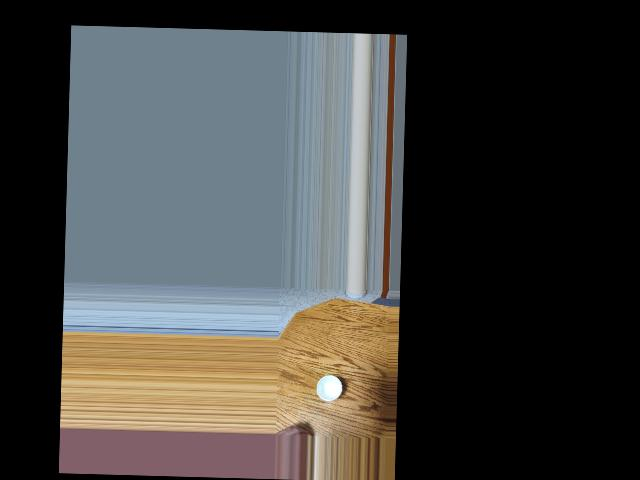cotage: (314, 372, 341, 404)
